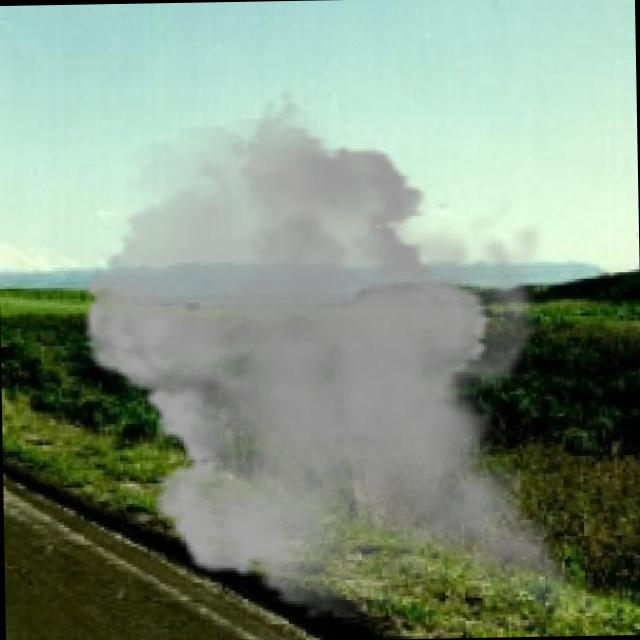Smoke: (65, 81, 637, 640)
